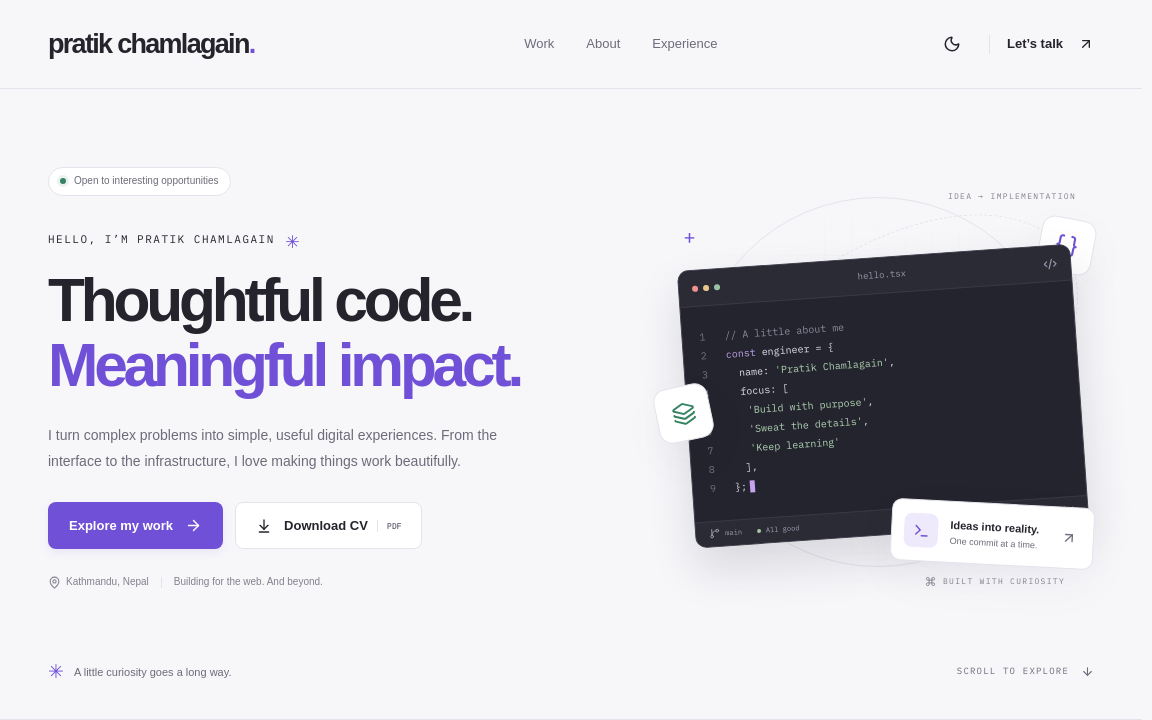
Test: portfolio interactions › offers a useful retry when PDF generation fails
The image size is (1152, 720).
Check: the heading "Thoughtful code.Meaningful impact." is shown, box [48,266,520,399]
Click the button "Download CV PDF".
click(329, 526)  # box [235,502,422,549]
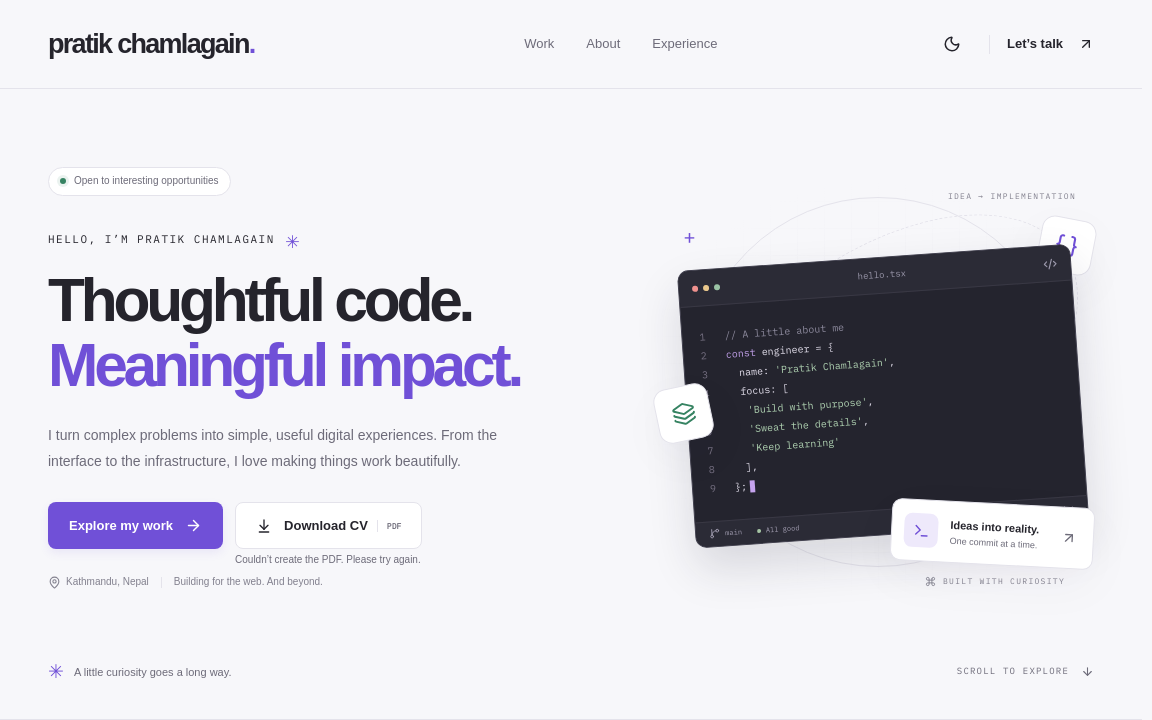
Check: the text "Couldn’t create the PDF. Please try again." is shown, box [235,554,421,565]
Click the button "Download CV PDF".
click(329, 526)  # box [235,502,422,549]
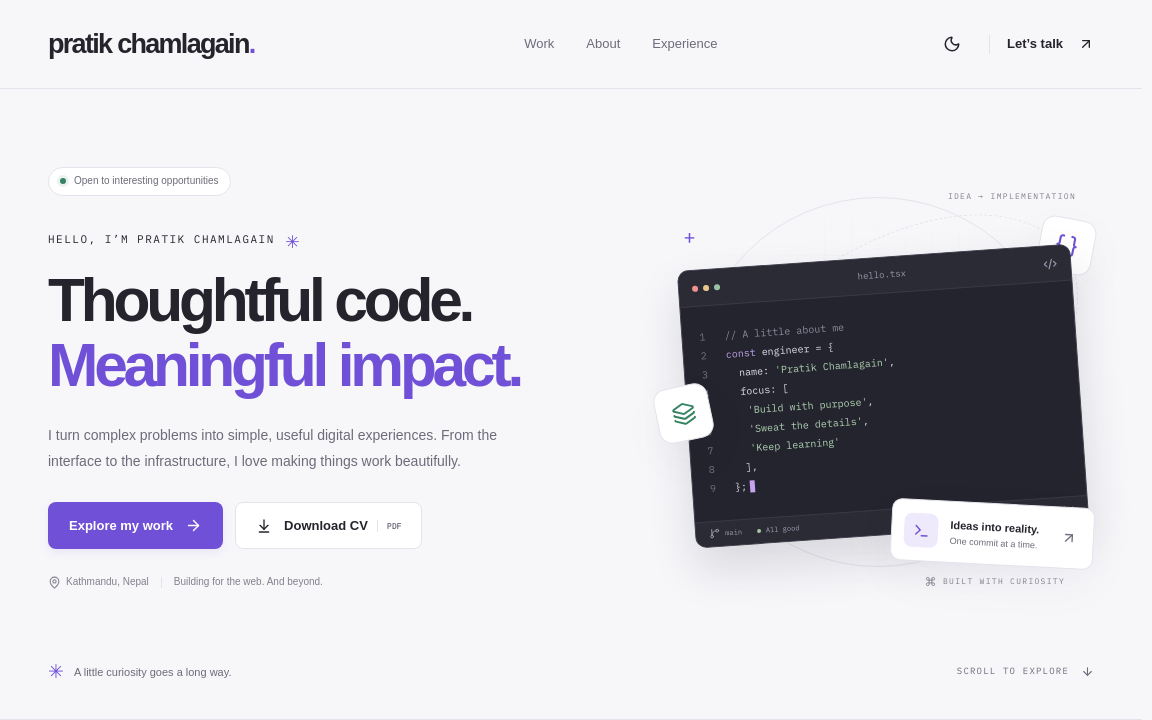
Check: the text "Couldn’t create the PDF. Please try again." is gone
